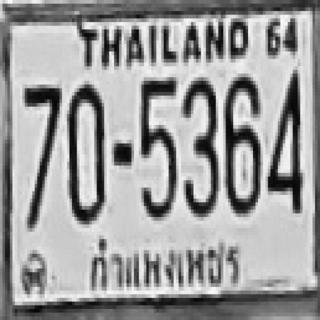N00: (67, 81, 104, 221)
N03: (181, 75, 218, 215)
N04: (265, 70, 300, 210)
N05: (139, 74, 176, 217)
N06: (223, 74, 258, 213)
N07: (22, 83, 60, 226), (22, 83, 60, 208), (22, 85, 60, 195), (22, 83, 60, 178)
P16: (84, 232, 247, 301)
